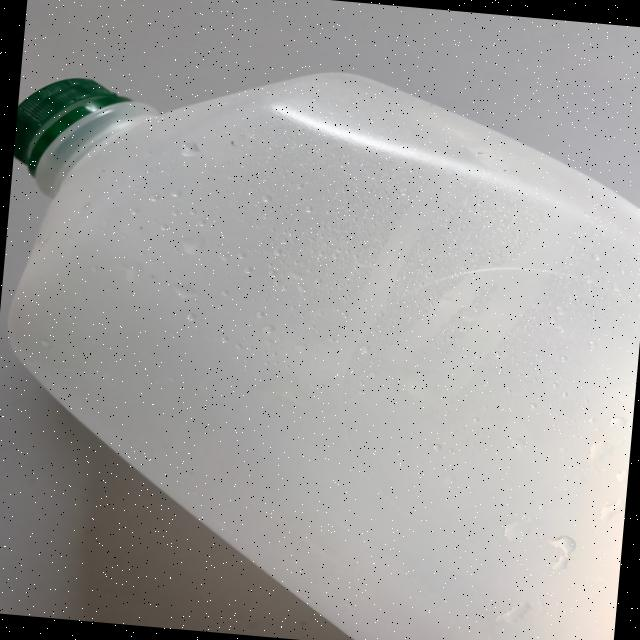plastic: (0, 43, 640, 640)
